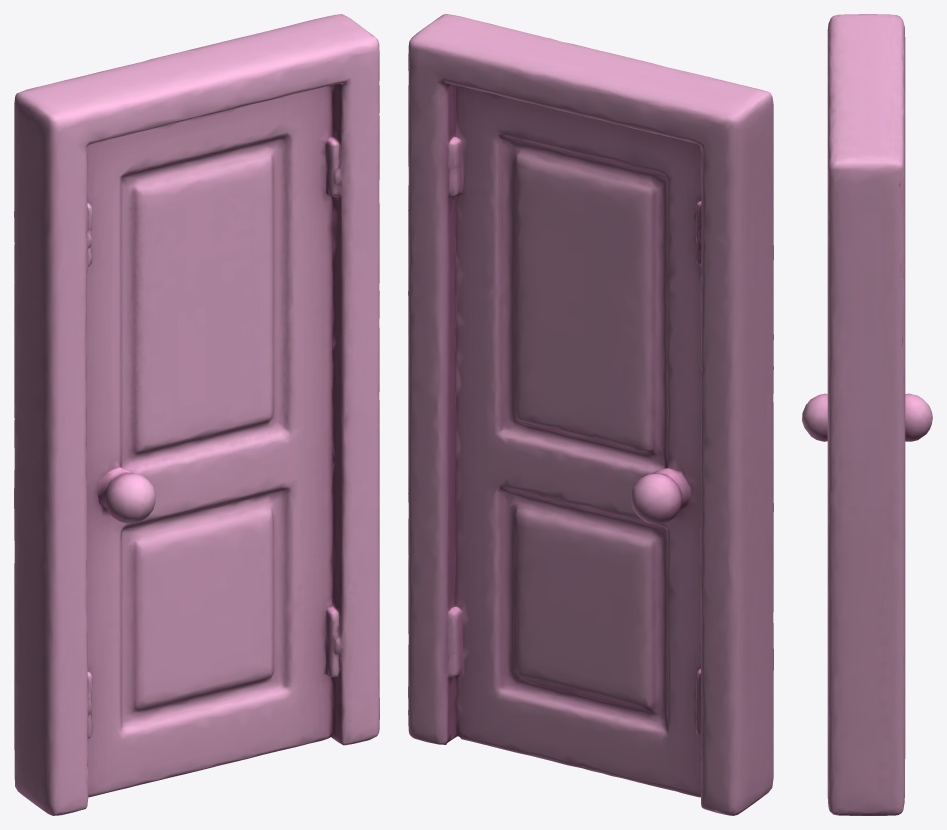
Rendered from bilik_door_pink.glb.
The picture shows the model from 3 angles, left to right: view 1: azimuth 30°, elevation 25°; view 2: azimuth 150°, elevation 25°; view 3: azimuth 270°, elevation 25°; orthographic projection. The views are drawn at different scales.
Size of the model in its own units: 0.4991 by 1 by 0.1807.
1 material, 1 textured.
